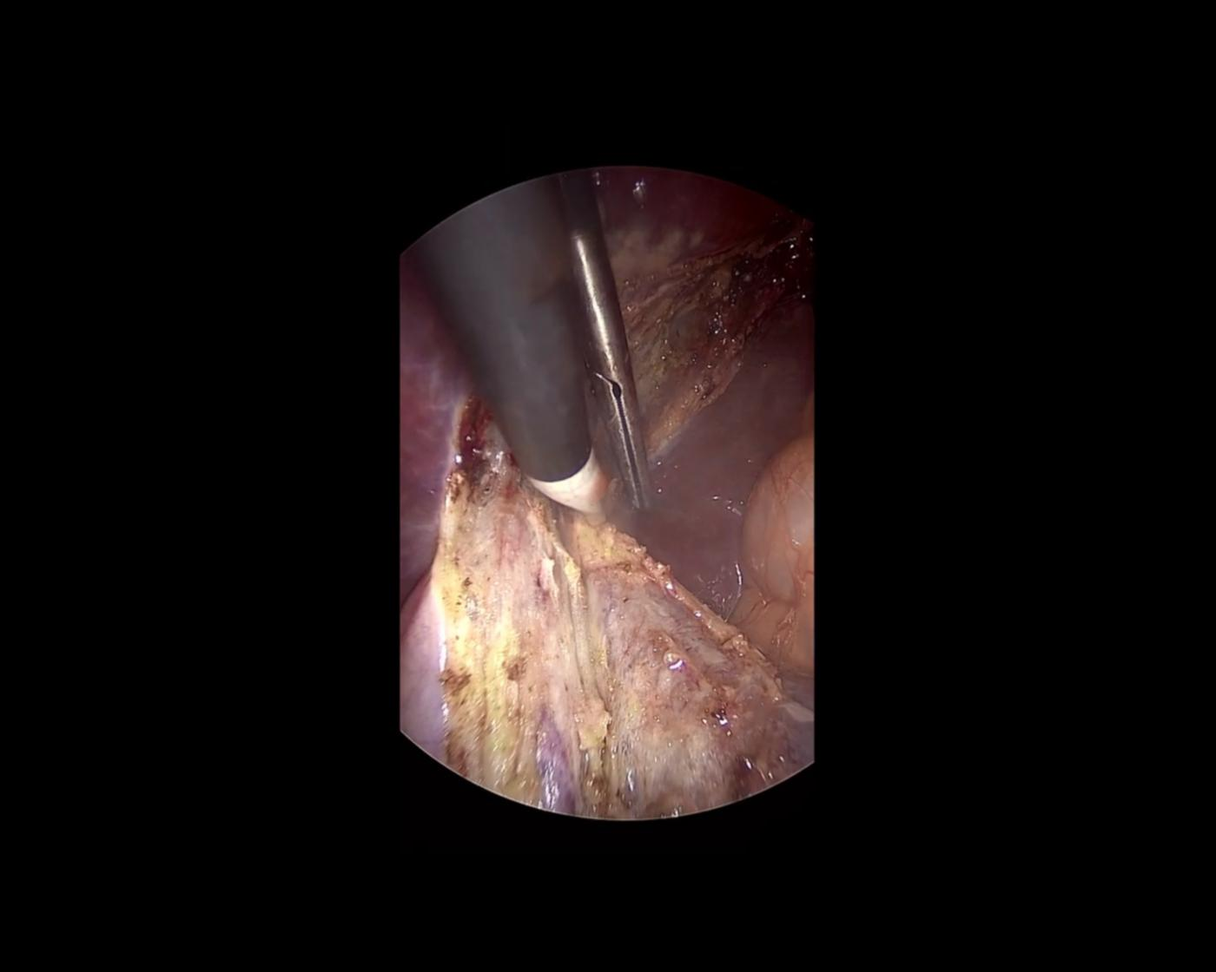Cautery: (403, 174, 614, 547)
Forceps: (548, 167, 655, 515)
Gallbladder: (336, 453, 845, 949)
Liver: (594, 255, 843, 620), (584, 121, 794, 282), (399, 247, 471, 609)
